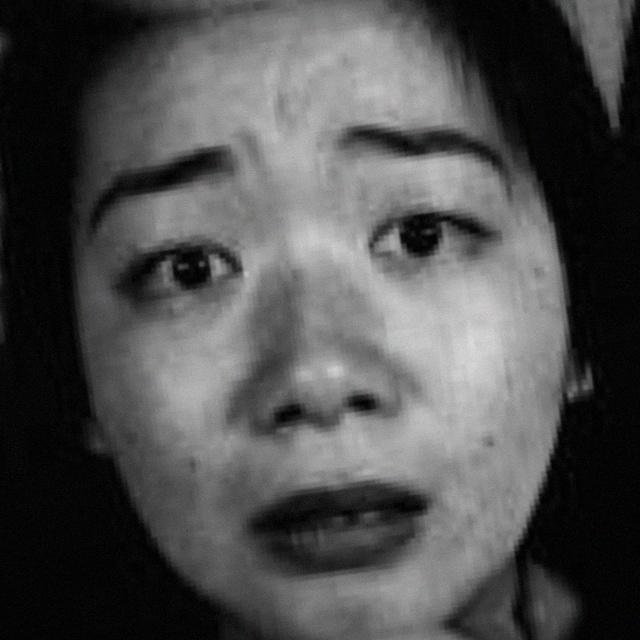fear: (84, 51, 563, 628)
